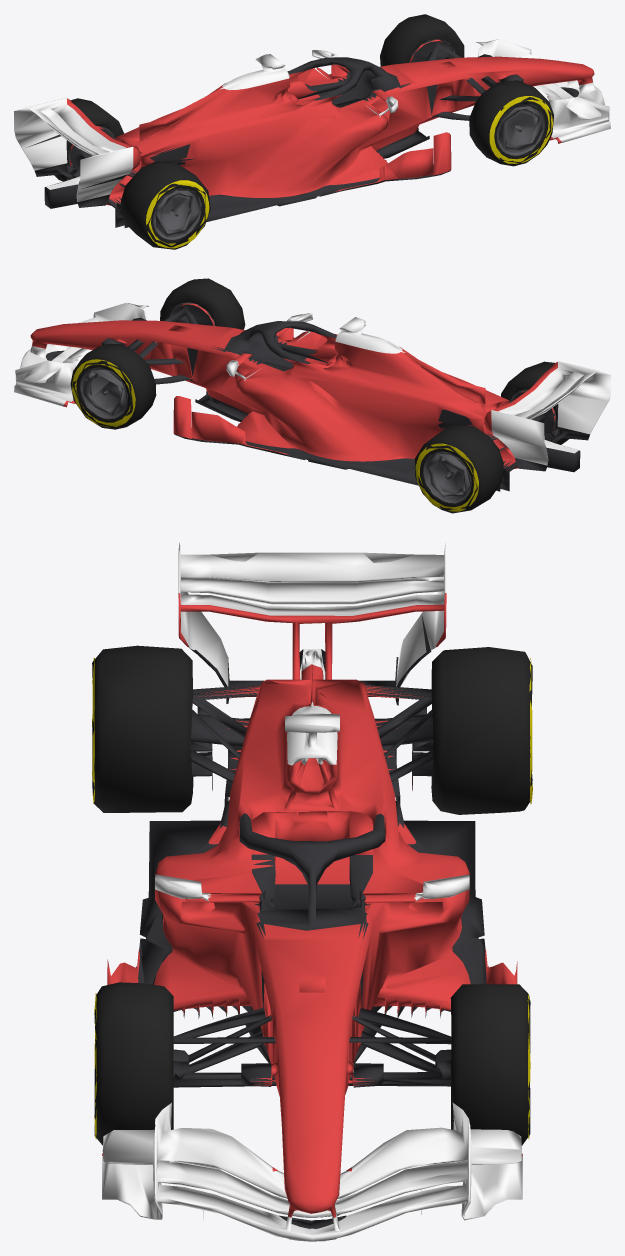
The model's file is f1-car-lod.glb.
3 renders of one model, top to bottom at view 1: azimuth 30°, elevation 25°; view 2: azimuth 150°, elevation 25°; view 3: azimuth 270°, elevation 25°, orthographic. The views are drawn at different scales.
Visible parts, largest first — view 1: body, wheel_RR, wheel_FR, wheel_FL, wheel_RL, band_FR, band_RR; view 2: body, wheel_RL, wheel_FL, wheel_FR, wheel_RR, band_RL, band_FL; view 3: body, wheel_RR, wheel_RL, wheel_FR, wheel_FL.
Boxes of the visible parts, x1,y1,x2,y2 form: body: (14, 39, 610, 227); wheel_RR: (121, 161, 210, 249); wheel_FR: (469, 80, 553, 166); wheel_FL: (380, 14, 464, 66); wheel_RL: (54, 98, 123, 181); band_FR: (489, 96, 553, 163); band_RR: (146, 180, 209, 248); body: (14, 303, 610, 491); wheel_RL: (415, 424, 503, 513); wheel_FL: (70, 344, 156, 429); wheel_FR: (160, 278, 245, 329); wheel_RR: (501, 361, 569, 444); band_RL: (415, 443, 478, 511); band_FL: (72, 359, 135, 427); body: (102, 542, 522, 1241); wheel_RR: (92, 645, 193, 812); wheel_RL: (431, 647, 532, 814); wheel_FR: (94, 982, 173, 1145); wheel_FL: (450, 984, 530, 1145).
Size of the model in its own units: 5.4 by 1.1 by 1.89.
